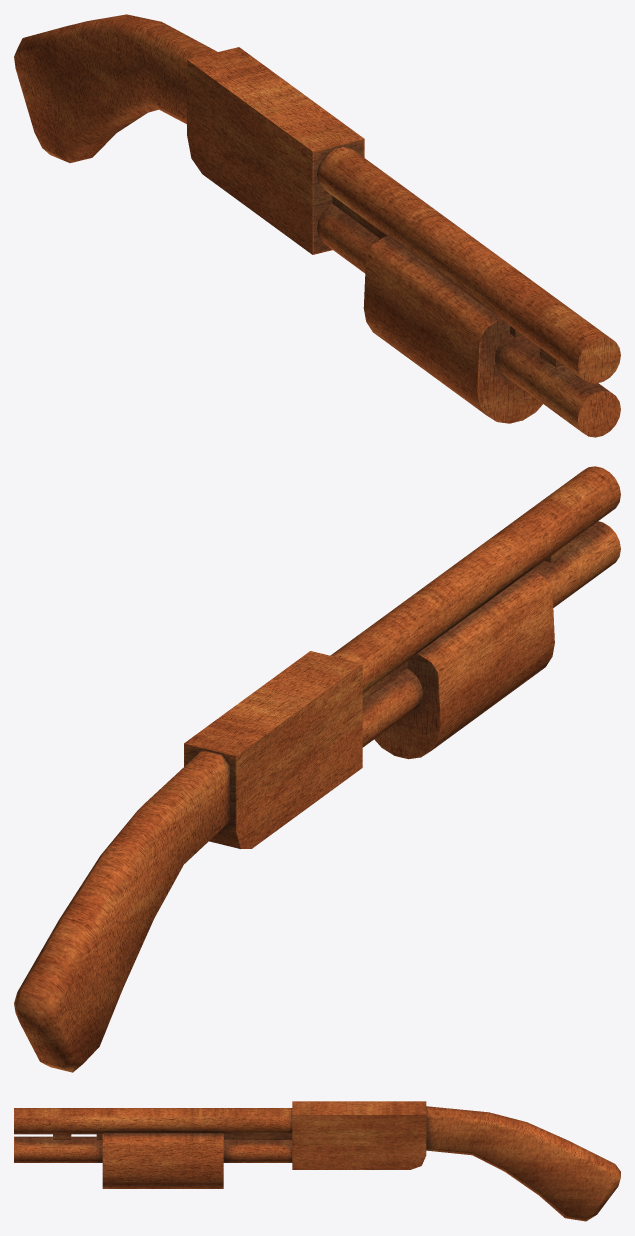
The model's file is SM_ShotgunProp.fbx.
3 renders of one model, top to bottom at view 1: azimuth 30°, elevation 25°; view 2: azimuth 150°, elevation 25°; view 3: azimuth 270°, elevation 25°, orthographic. The views are drawn at different scales.
Parts seen in each view (by area): view 1: SM_ShotgunProp; view 2: SM_ShotgunProp; view 3: SM_ShotgunProp.
Part boxes in pixels (x1,y1,x2,y2): SM_ShotgunProp: [14, 14, 620, 437]; SM_ShotgunProp: [14, 466, 620, 1072]; SM_ShotgunProp: [14, 1101, 620, 1221].
Bounding box in the file's own units: 6.12 × 15.58 × 77.23.
